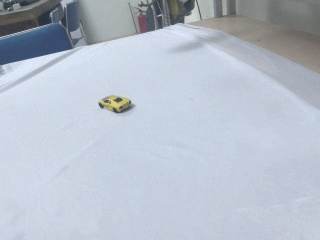toy_car: (99, 95, 131, 113)
